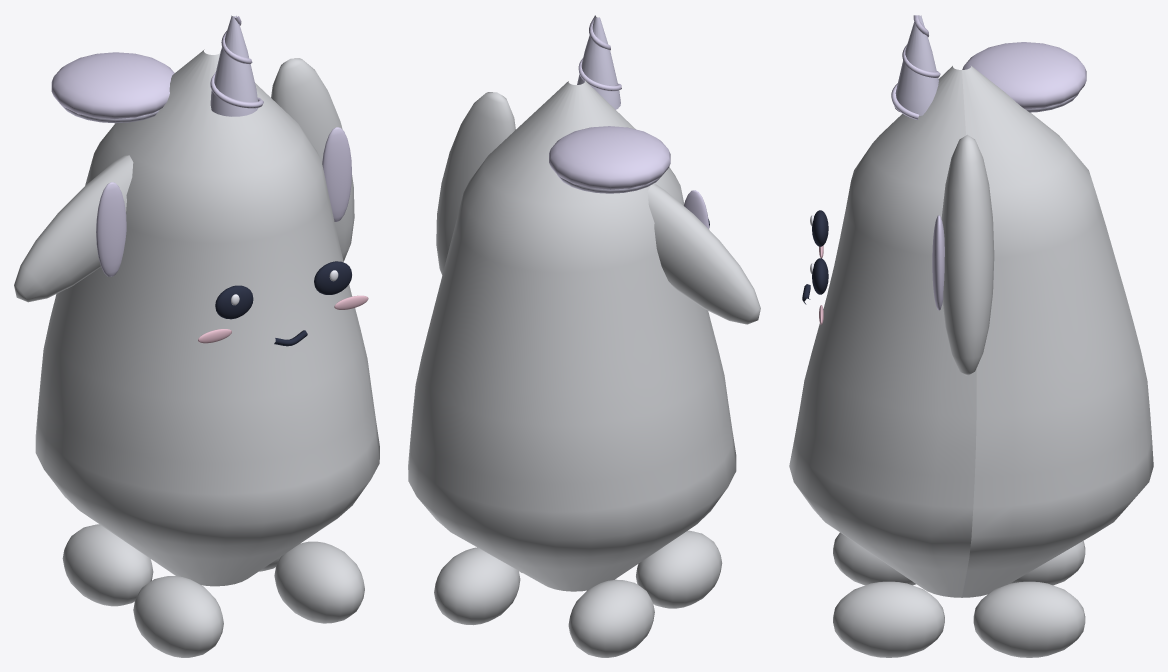
Rendered from evolved.glb.
3 renders of one model, left to right at view 1: azimuth 30°, elevation 25°; view 2: azimuth 150°, elevation 25°; view 3: azimuth 270°, elevation 25°, orthographic. The views are drawn at different scales.
Parts seen in each view (by area): view 1: Body, EarShell-1, HatDome, Sole_L_Front, Sole_R_Front, Sole_L_Back, EarShell1, PearlHorn, EarTint-1, EarTint1, Eye_L, Eye_R (+1 smaller); view 2: Body, EarShell-1, HatDome, EarShell1, Sole_L_Back, Sole_R_Back, Sole_L_Front, PearlHorn, HornSpiral, EarTint-1; view 3: Body, EarShell1, Sole_R_Back, Sole_R_Front, HatDome, PearlHorn, Sole_L_Front, Sole_L_Back, EarTint1, HornSpiral.
Part boxes in pixels (x1=…): Body: x1=35, y1=49, x2=379, y2=586; EarShell-1: x1=14, y1=155, x2=133, y2=302; HatDome: x1=51, y1=52, x2=174, y2=119; Sole_L_Front: x1=133, y1=576, x2=223, y2=657; Sole_R_Front: x1=274, y1=541, x2=364, y2=623; Sole_L_Back: x1=62, y1=524, x2=153, y2=606; EarShell1: x1=271, y1=58, x2=354, y2=261; PearlHorn: x1=210, y1=15, x2=258, y2=116; EarTint-1: x1=96, y1=182, x2=126, y2=276; EarTint1: x1=322, y1=127, x2=351, y2=221; Eye_L: x1=215, y1=285, x2=253, y2=319; Eye_R: x1=314, y1=261, x2=351, y2=294; Body: x1=408, y1=80, x2=736, y2=591; EarShell-1: x1=647, y1=184, x2=760, y2=324; HatDome: x1=549, y1=126, x2=670, y2=189; EarShell1: x1=436, y1=92, x2=515, y2=274; Sole_L_Back: x1=568, y1=579, x2=654, y2=657; Sole_R_Back: x1=434, y1=547, x2=520, y2=625; Sole_L_Front: x1=636, y1=530, x2=722, y2=608; PearlHorn: x1=577, y1=17, x2=620, y2=109; HornSpiral: x1=578, y1=15, x2=621, y2=91; EarTint-1: x1=684, y1=190, x2=709, y2=229; Body: x1=789, y1=65, x2=1153, y2=597; EarShell1: x1=941, y1=134, x2=994, y2=375; Sole_R_Back: x1=973, y1=581, x2=1085, y2=657; Sole_R_Front: x1=833, y1=581, x2=944, y2=657; HatDome: x1=962, y1=42, x2=1086, y2=109; PearlHorn: x1=894, y1=15, x2=938, y2=115; Sole_L_Front: x1=833, y1=532, x2=915, y2=585; Sole_L_Back: x1=1009, y1=541, x2=1085, y2=585; EarTint1: x1=932, y1=215, x2=944, y2=310; HornSpiral: x1=891, y1=15, x2=940, y2=119.
Bounding box in the file's own units: 1.45 × 2.47 × 1.35.
